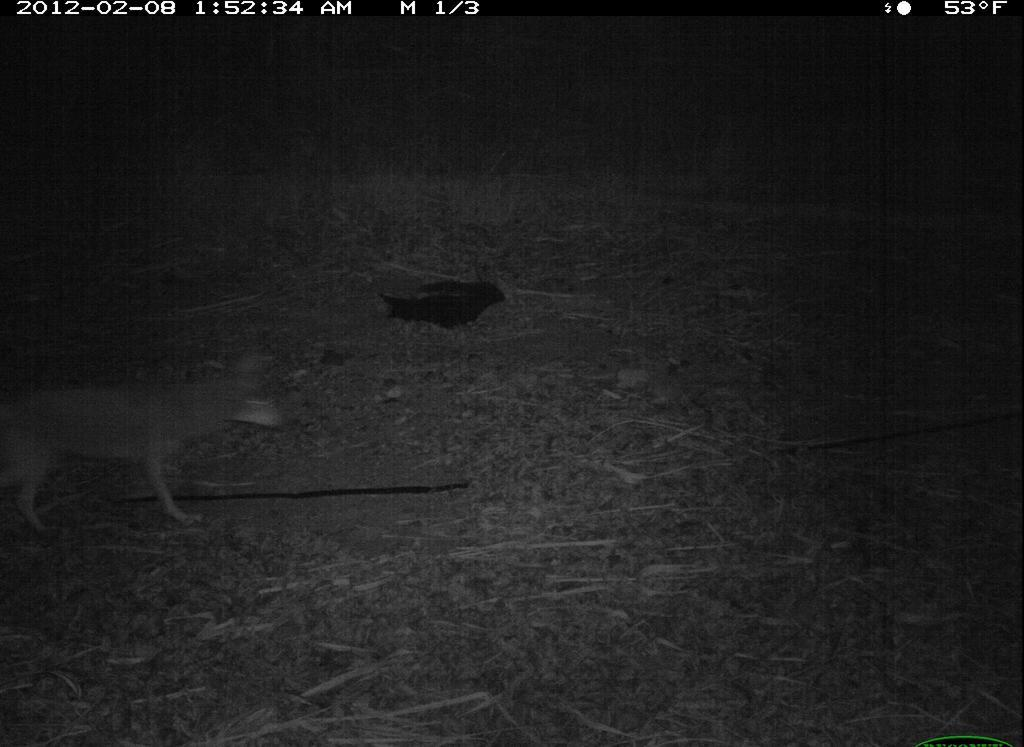coyote: (6, 346, 296, 538)
